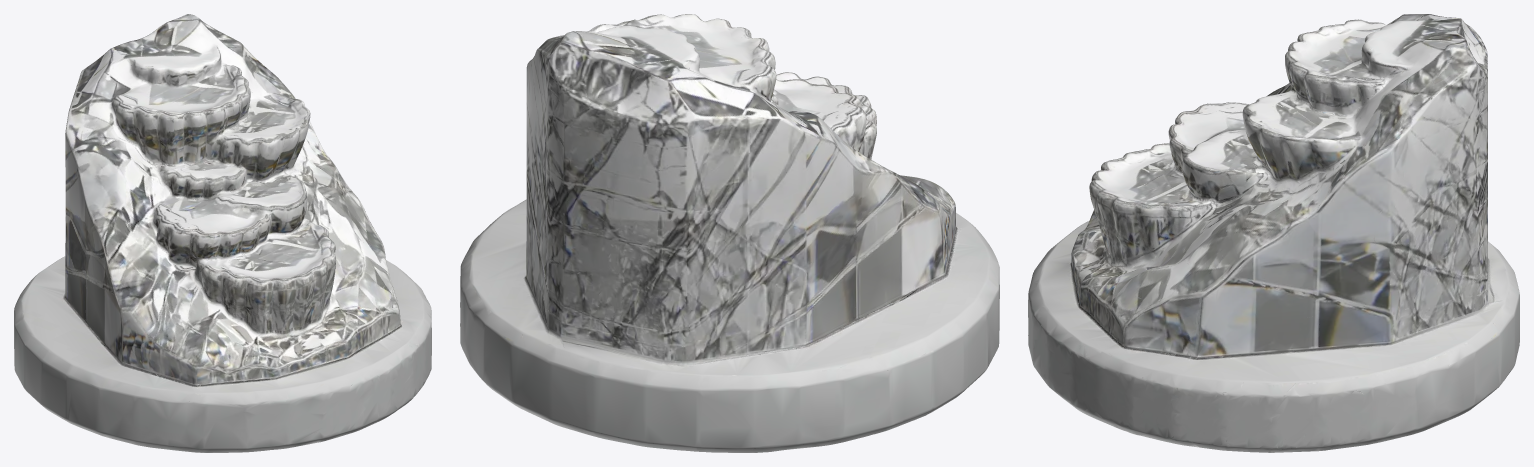
File: pamukkale.glb
3 renders of one model, left to right at view 1: azimuth 30°, elevation 25°; view 2: azimuth 150°, elevation 25°; view 3: azimuth 270°, elevation 25°, orthographic. The views are drawn at different scales.
Visible parts, largest first — view 1: Mesh_0; view 2: Mesh_0; view 3: Mesh_0.
Boxes of the visible parts, x1=… form: Mesh_0: x1=14, y1=14, x2=431, y2=452; Mesh_0: x1=460, y1=14, x2=999, y2=452; Mesh_0: x1=1028, y1=14, x2=1519, y2=452.
Bounding box in the file's own units: 1.91 × 1.43 × 1.91.
1 material, 1 textured.
